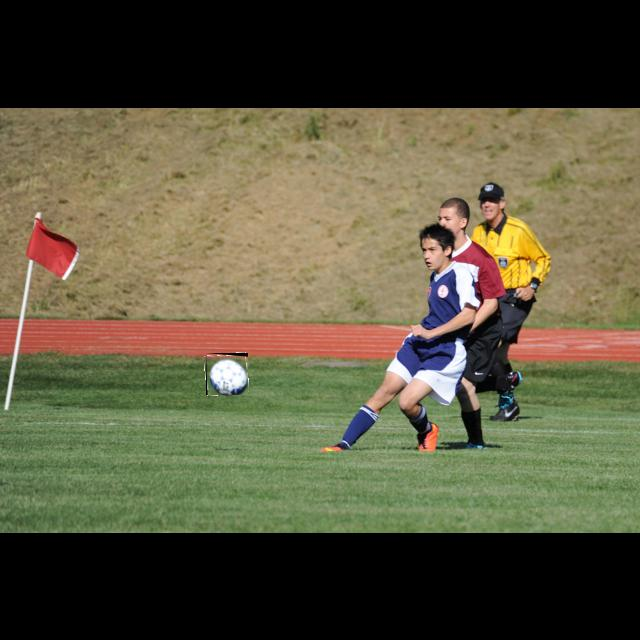Football: (206, 353, 248, 395)
